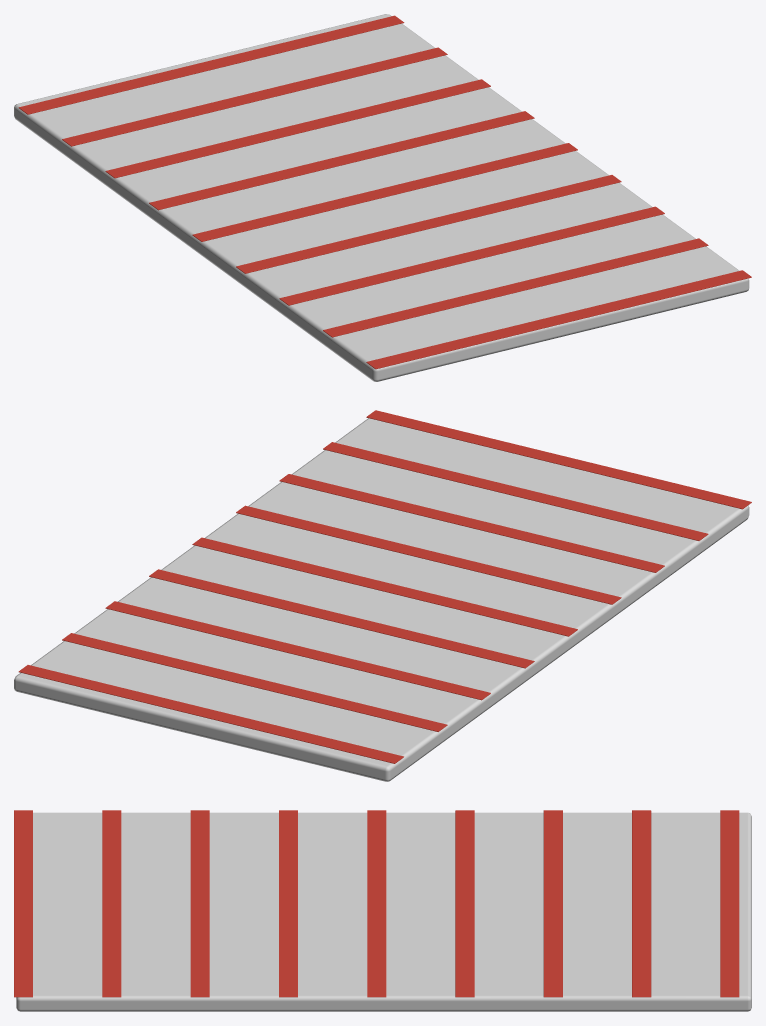
File: optional-towel-ramp-light.glb
The picture shows the model from 3 angles, top to bottom: view 1: azimuth 30°, elevation 25°; view 2: azimuth 150°, elevation 25°; view 3: azimuth 270°, elevation 25°; orthographic projection.
Parts seen in each view (by area): view 1: linen, red; view 2: linen, red; view 3: linen, red.
Boxes of the visible parts, x1,y1,x2,y2 form: linen: (14, 14, 749, 381); red: (18, 15, 751, 369); linen: (14, 418, 749, 781); red: (18, 410, 751, 763); linen: (16, 812, 751, 1011); red: (14, 810, 739, 997).
Bounding box in the file's own units: 3 × 0.125 × 5.02.
